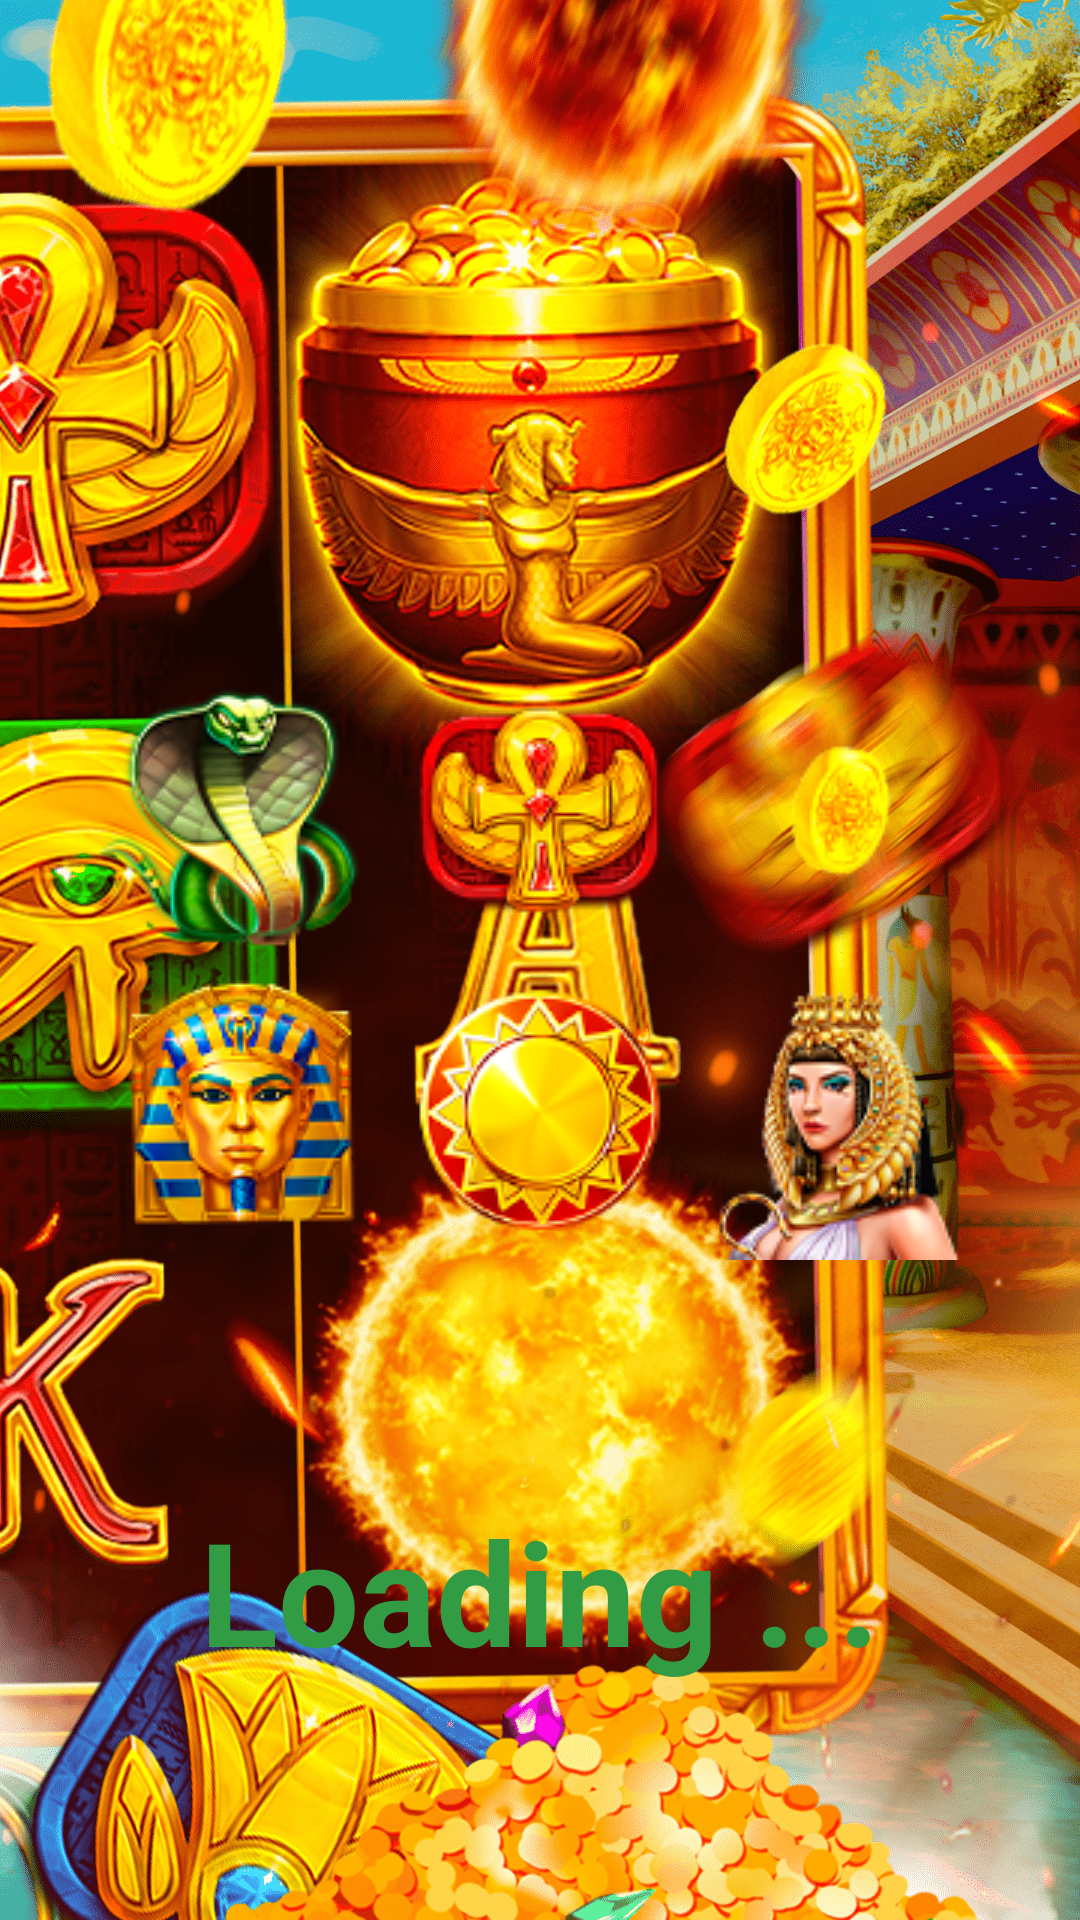

Icon click points for this 1080px×1920px phone screenshot, format (x,y):
cross: (540,810)
gold plate: (540,1110)
pharaon: (240,1110)
snake: (240,810)
